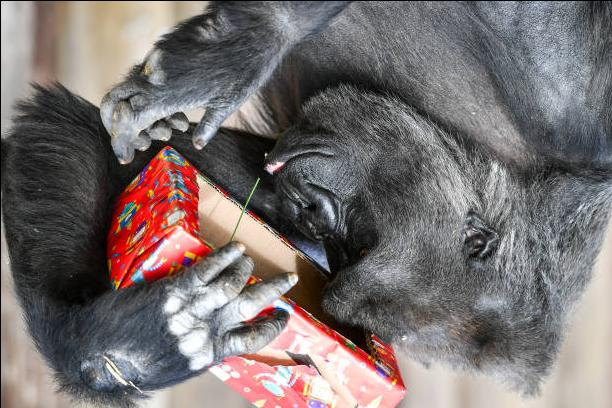gorille_Autres: (258, 0, 600, 359)
